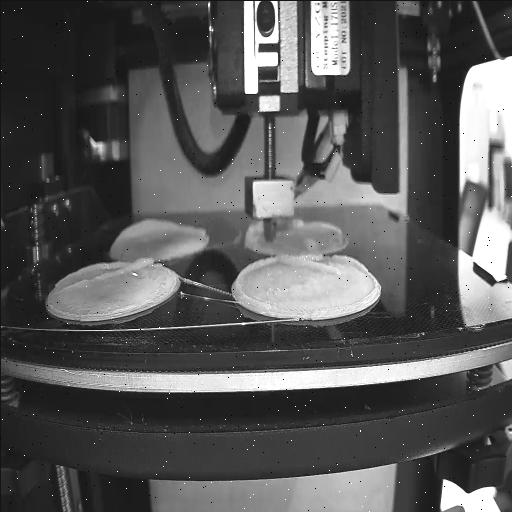over_extrusion: (60, 252, 154, 292), (116, 216, 210, 239), (237, 255, 276, 307), (278, 252, 368, 274), (280, 218, 344, 236)
